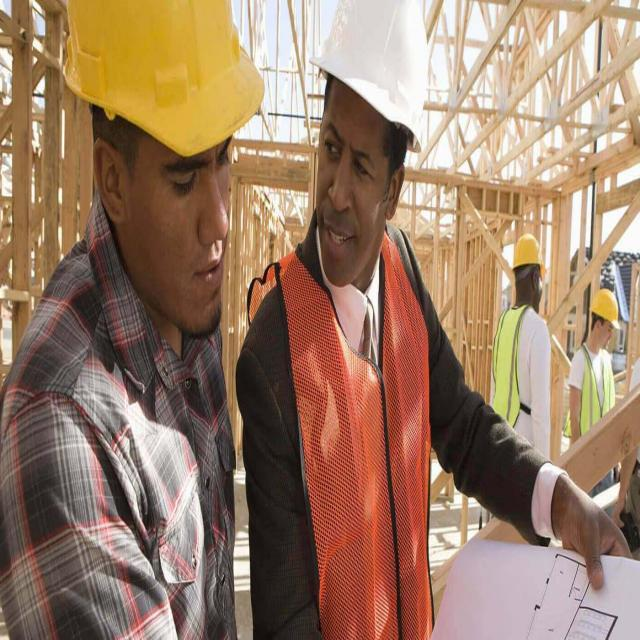Reflective-Jacket: (273, 224, 437, 640), (491, 301, 539, 427), (577, 346, 614, 430)
Safety-Helmet: (62, 0, 262, 161), (314, 0, 433, 133), (512, 229, 543, 271), (590, 284, 620, 324)
